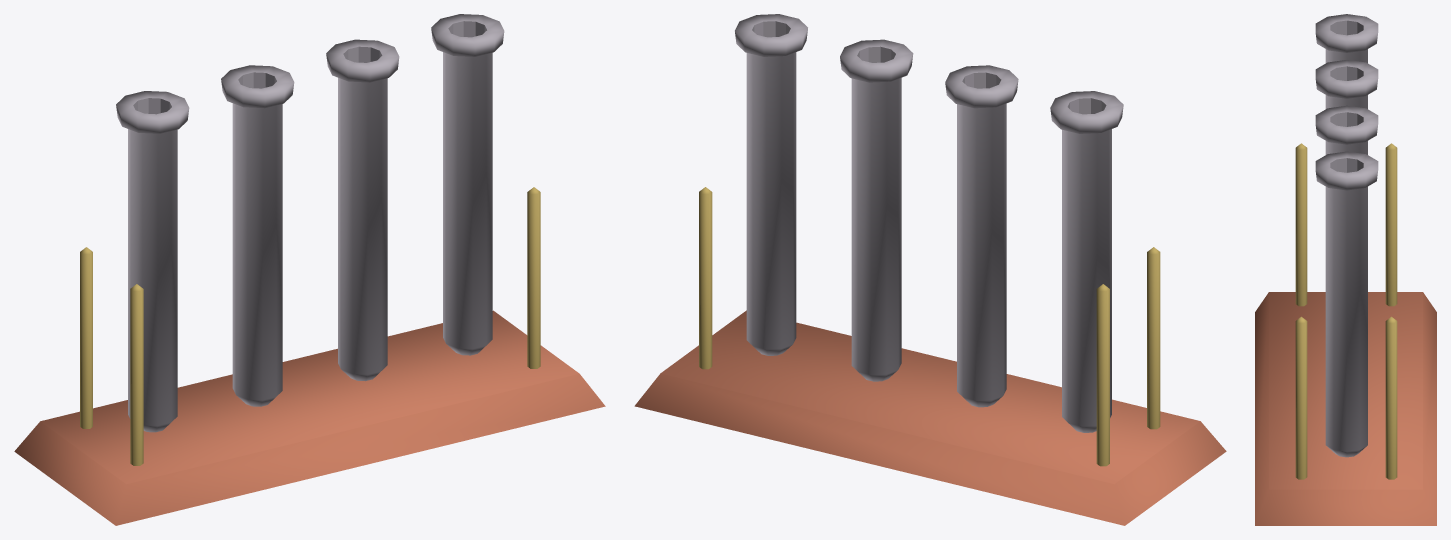
The model's file is labor2.FBX.
3 views of the same model, side by side, from view 1: azimuth 30°, elevation 25°; view 2: azimuth 150°, elevation 25°; view 3: azimuth 270°, elevation 25° (orthographic). The views are drawn at different scales.
Parts seen in each view (by area): view 1: Tube_rack008, Tube_A_009, Tube_A_006, Tube_A_007, Tube_A_008; view 2: Tube_rack008, Tube_A_007, Tube_A_006, Tube_A_009, Tube_A_008; view 3: Tube_rack008, Tube_A_006, Tube_A_009, Tube_A_007, Tube_A_008.
Part boxes in pixels (x1,y1,x2,y2): Tube_rack008: [14, 187, 605, 525]; Tube_A_009: [221, 65, 294, 406]; Tube_A_006: [431, 14, 504, 355]; Tube_A_007: [326, 39, 399, 381]; Tube_A_008: [116, 91, 189, 432]; Tube_rack008: [634, 187, 1226, 525]; Tube_A_007: [840, 39, 913, 381]; Tube_A_006: [735, 14, 807, 355]; Tube_A_009: [945, 65, 1018, 407]; Tube_A_008: [1050, 91, 1123, 432]; Tube_rack008: [1255, 143, 1436, 525]; Tube_A_006: [1315, 151, 1378, 457]; Tube_A_009: [1315, 60, 1378, 108]; Tube_A_007: [1315, 105, 1378, 154]; Tube_A_008: [1315, 14, 1378, 63].
Size of what is drawn, in the model's own units: 146 by 52.65 by 103.
1 material, 1 textured.
